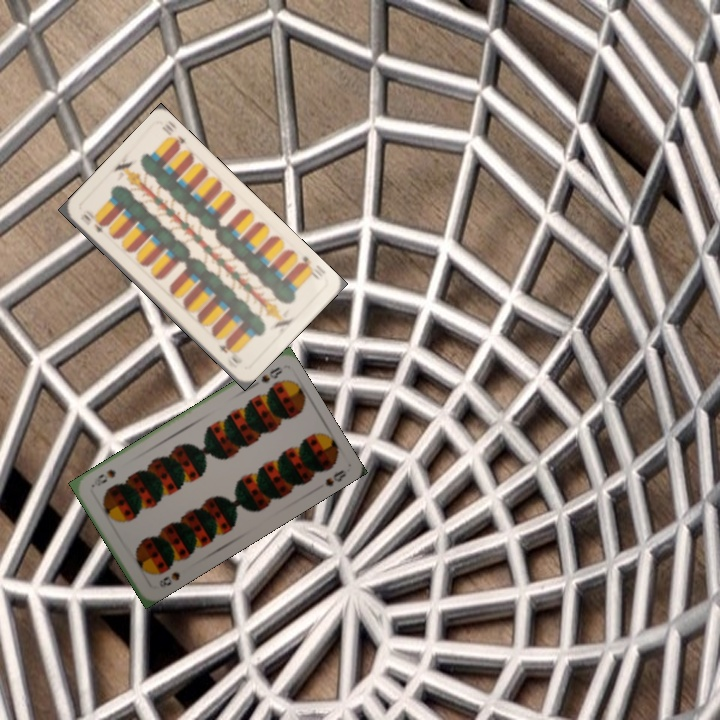E10: (294, 252, 322, 281), (76, 210, 107, 235)
S8: (155, 568, 182, 591), (257, 363, 285, 385)
